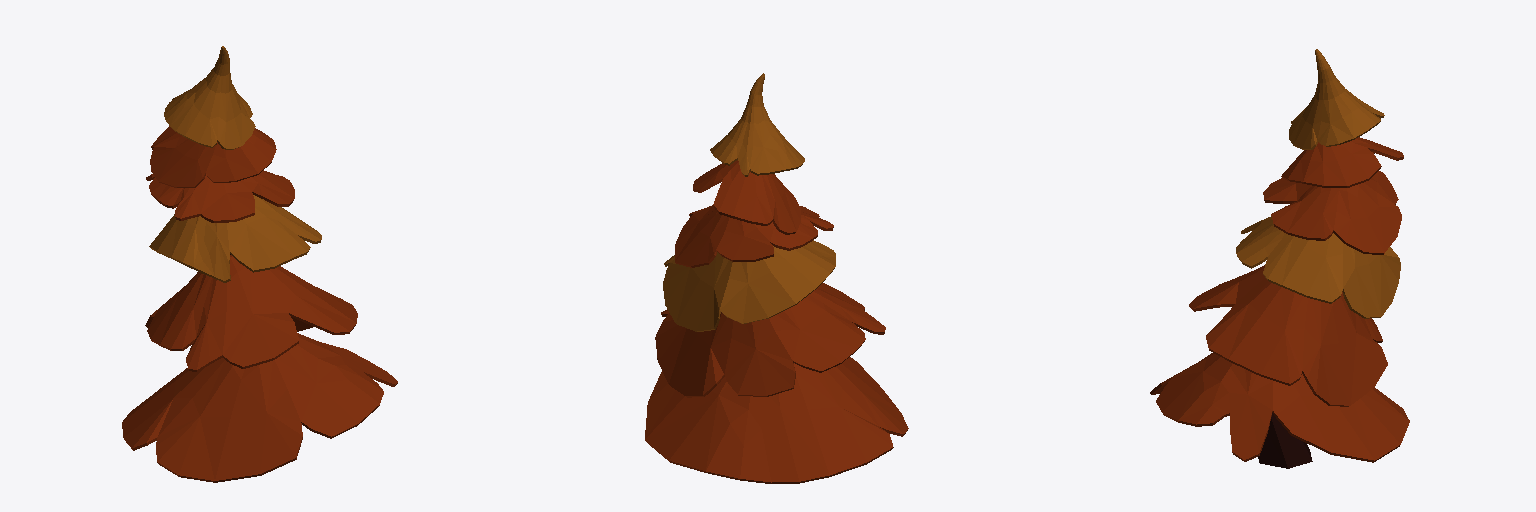
The model's file is PineTree.obj.
3 renders of one model, left to right at view 1: azimuth 30°, elevation 25°; view 2: azimuth 150°, elevation 25°; view 3: azimuth 270°, elevation 25°, orthographic.
Parts seen in each view (by area): view 1: PineTree_Autumn_3; view 2: PineTree_Autumn_3; view 3: PineTree_Autumn_3.
Part boxes in pixels (x1,y1,x2,y2): PineTree_Autumn_3: (122, 46, 397, 482); PineTree_Autumn_3: (645, 73, 908, 483); PineTree_Autumn_3: (1150, 49, 1409, 468).
Bounding box in the file's own units: 2.16 × 3.3 × 1.95.